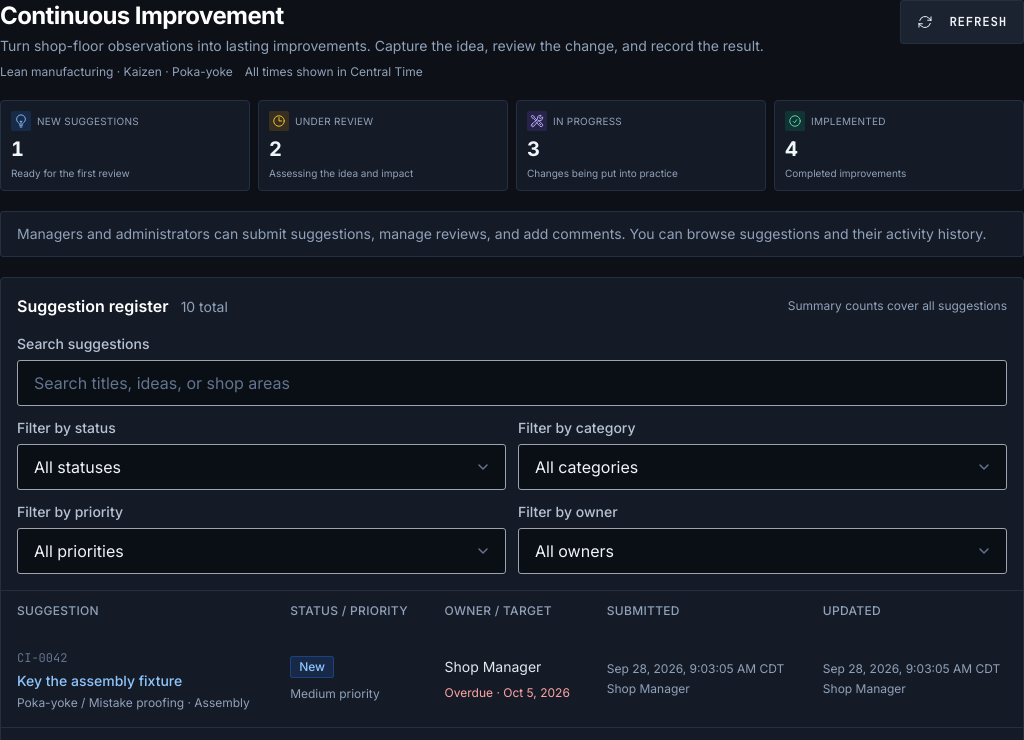
Scenario: keeps viewer sessions read-only while exposing timestamped history
This screenshot has width=1024, height=740.
Click the button "Key the assembly fixture". click: (100, 680)
box: top-left (17, 670), bottom-right (182, 690)
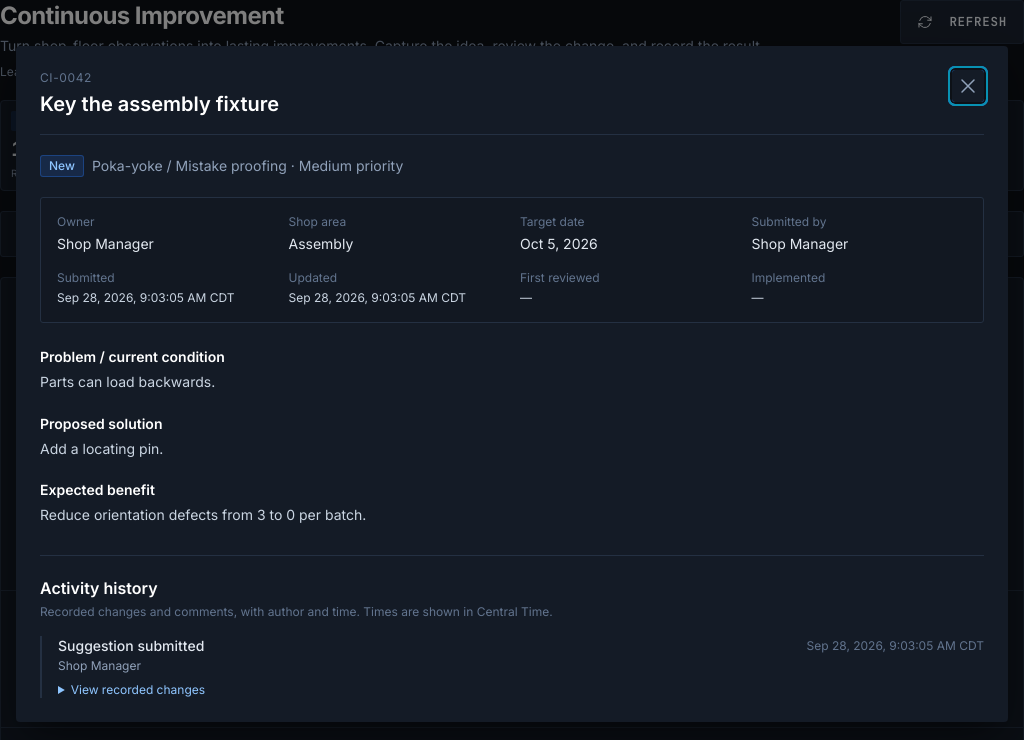
Now the heading "Key the assembly fixture" is shown, box top-left (40, 90), bottom-right (279, 118)
Now the heading "Activity history" is shown, box top-left (40, 578), bottom-right (158, 598)
Now the text "Sep 28, 2026, 9:03:05 AM CDT" is shown 3 times, box top-left (57, 290), bottom-right (234, 305); top-left (288, 290), bottom-right (466, 305); top-left (806, 638), bottom-right (984, 653)
